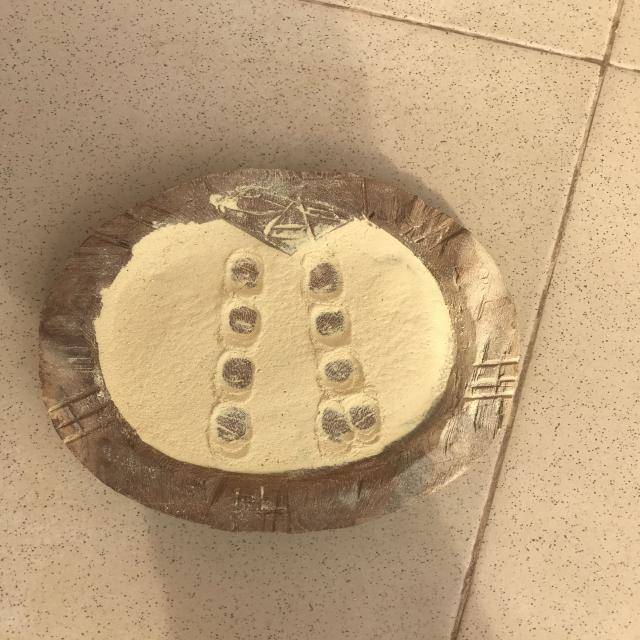double: (307, 389, 388, 451)
single: (205, 402, 262, 466), (304, 302, 361, 354), (210, 350, 262, 404), (221, 246, 270, 302), (216, 299, 266, 353), (300, 250, 350, 304), (311, 347, 366, 395)
